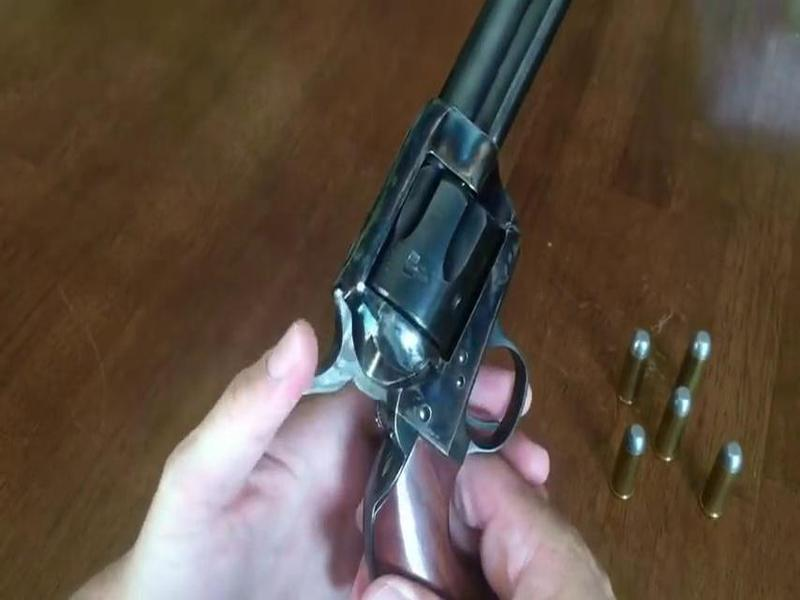Revolver: (318, 7, 568, 595)
